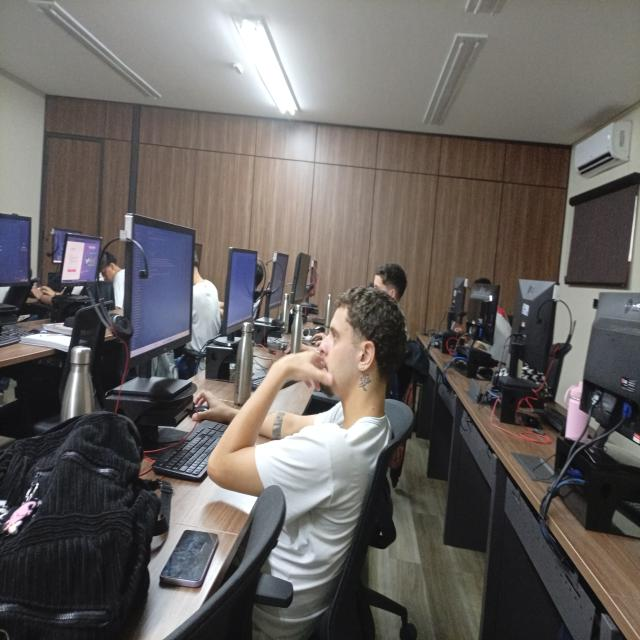sem_oculos: (318, 314, 364, 356)
